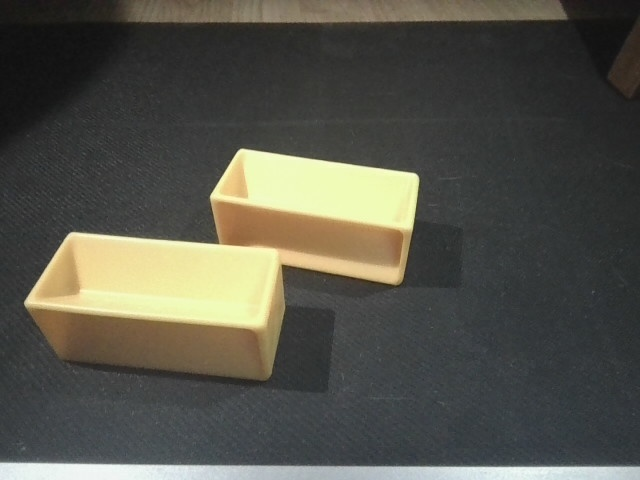YellowSample: (20, 227, 291, 385), (206, 145, 422, 290)
